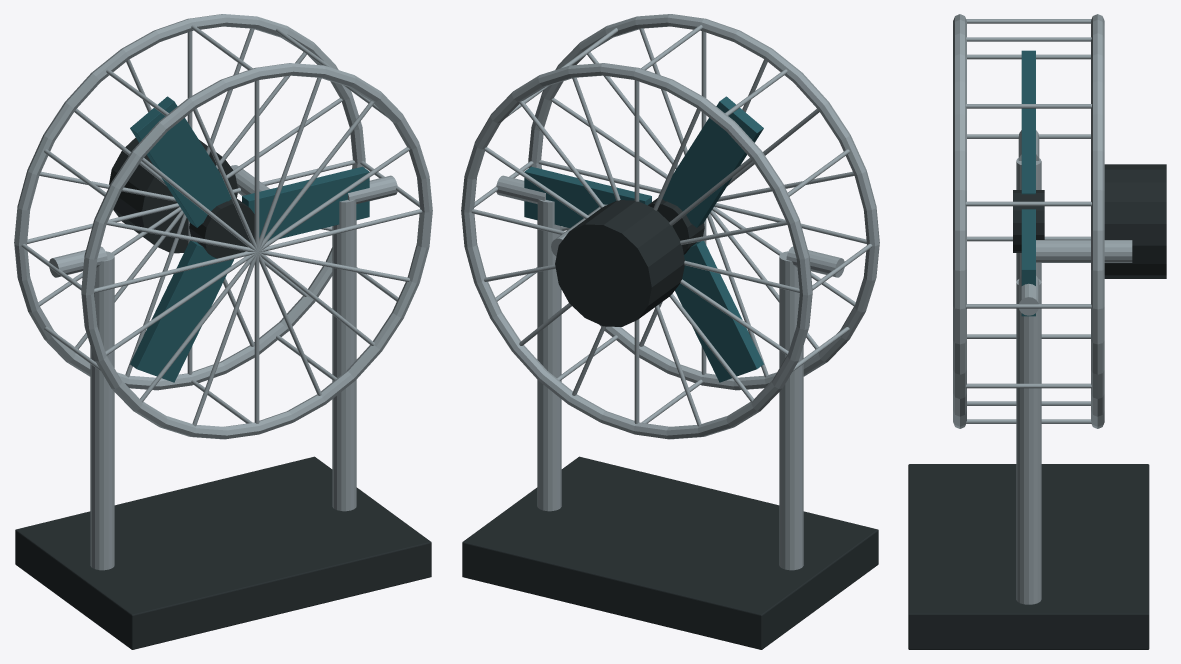
The model's file is source-edit.glb.
3 views of the same model, side by side, from view 1: azimuth 30°, elevation 25°; view 2: azimuth 150°, elevation 25°; view 3: azimuth 270°, elevation 25° (orthographic). The views are drawn at different scales.
Visible parts, largest first — view 1: Foot, Cage_Rim.001, Cage_Rim, Stand.001, Stand, Blade, Blade.002, Blade.001, Motor, Rotor_Hub, Cage_Spoke.005, Cage_Spoke.013 (+20 smaller); view 2: Foot, Cage_Rim, Motor, Cage_Rim.001, Stand, Stand.001, Blade, Blade.002, Blade.001, Rotor_Hub, Mount.001, Mount (+13 smaller); view 3: Foot, Stand.001, Motor, Cage_Rim, Cage_Rim.001, Blade.002, Axle, Blade.001, Rotor_Hub, Cage_Depth.002, Cage_Depth, Cage_Depth.006 (+11 smaller).
Part boxes in pixels (x1,y1,x2,y2): Foot: (15, 456, 431, 649); Cage_Rim.001: (81, 63, 432, 439); Cage_Rim: (14, 14, 365, 390); Stand.001: (332, 199, 356, 511); Stand: (90, 251, 114, 570); Blade: (130, 241, 234, 382); Blade.002: (130, 96, 231, 227); Blade.001: (242, 166, 369, 240); Motor: (109, 137, 237, 253); Rotor_Hub: (189, 198, 254, 260); Cage_Spoke.005: (254, 80, 259, 251); Cage_Spoke.013: (254, 252, 259, 423); Foot: (462, 456, 878, 649); Cage_Rim: (461, 63, 812, 439); Motor: (555, 200, 684, 326); Cage_Rim.001: (528, 14, 879, 390); Stand: (779, 251, 803, 570); Stand.001: (537, 199, 561, 511); Blade: (675, 241, 763, 382); Blade.002: (662, 96, 763, 227); Blade.001: (524, 166, 651, 227); Rotor_Hub: (648, 198, 704, 254); Mount.001: (496, 175, 545, 203); Mount: (786, 246, 844, 277); Foot: (908, 464, 1149, 649); Stand.001: (1016, 279, 1041, 604); Motor: (1104, 164, 1166, 278); Cage_Rim: (1091, 14, 1104, 428); Cage_Rim.001: (953, 14, 966, 428); Blade.002: (1021, 50, 1035, 194); Axle: (1036, 240, 1132, 262); Blade.001: (1021, 209, 1035, 316); Rotor_Hub: (1013, 190, 1044, 252); Cage_Depth.002: (965, 201, 1091, 206); Cage_Depth: (965, 383, 1091, 388); Cage_Depth.006: (967, 54, 1090, 59).
Size of the model in its own units: 0.724 by 1.04 by 0.45.
